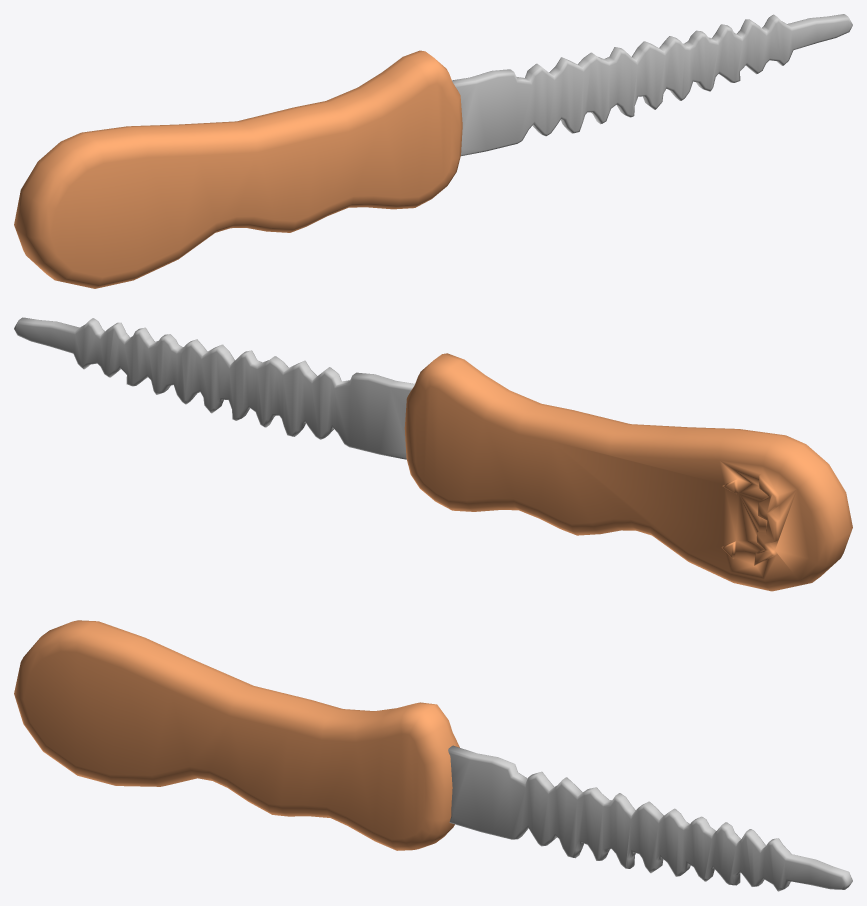
Rendered from item-pumpkin-knife.glb.
The picture shows the model from 3 angles, top to bottom: view 1: azimuth 30°, elevation 25°; view 2: azimuth 150°, elevation 25°; view 3: azimuth 330°, elevation 25°; orthographic projection.
Bounding box in the file's own units: 19.28 × 3.28 × 1.2.
